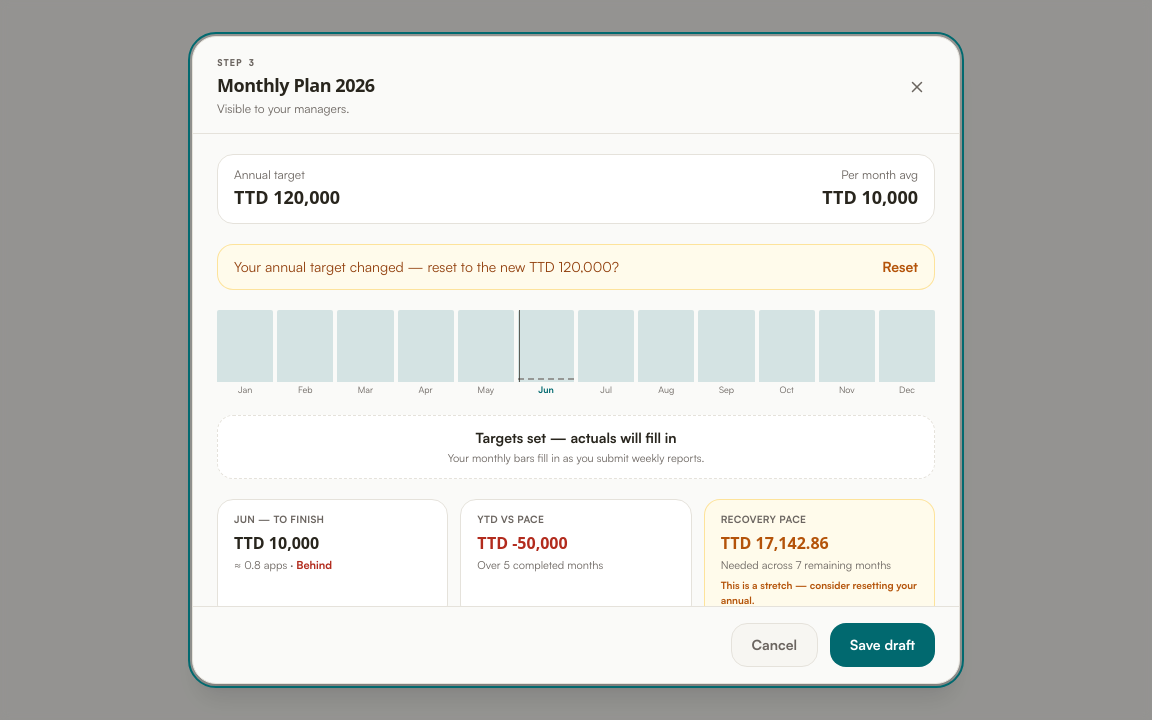
MonthlyPlanModal — stale anchor › clicking Reset on stale banner re-seeds even split and hides the banner
This screenshot has width=1152, height=720.
What coordinates should you click on to do the following:
click the button "Reset"
I would click on:
 (900, 266)
Its box is x1=882 y1=256 x2=918 y2=276.
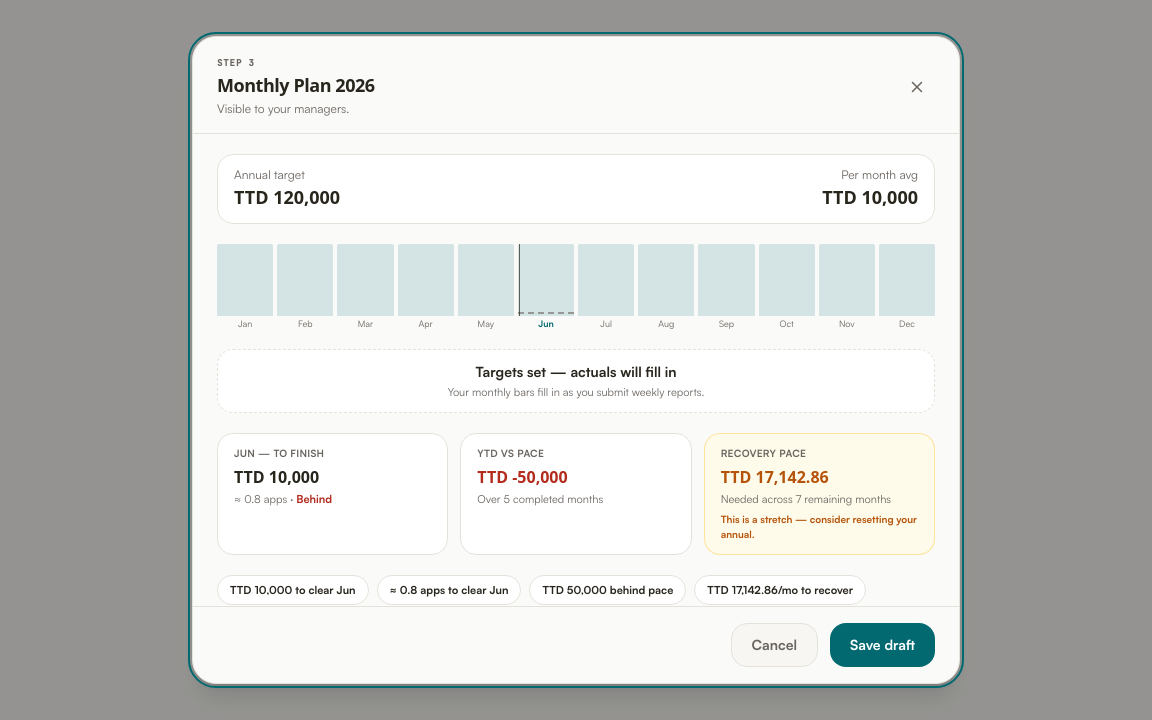
expect the element with test id "stale-anchor-banner" is gone: met
